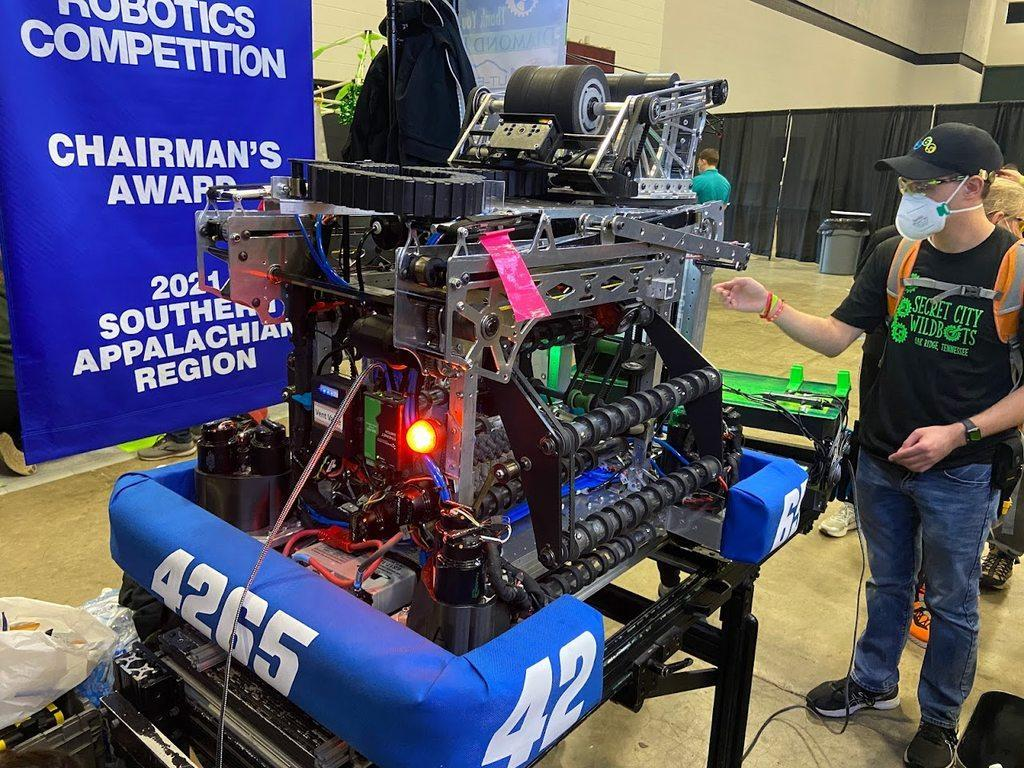robot: (103, 57, 812, 768)
